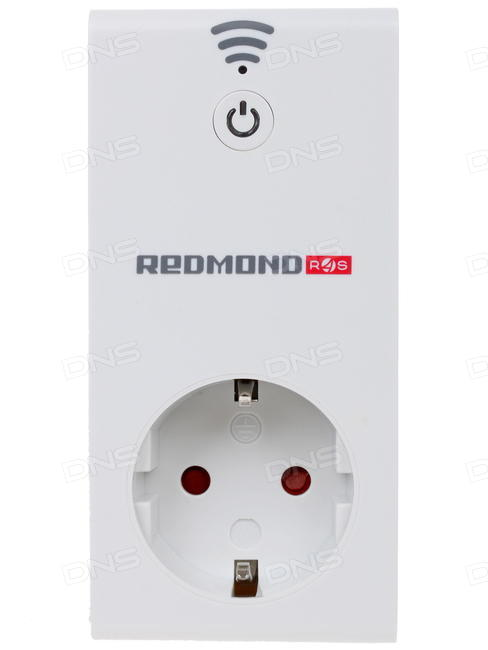raccoon: (129, 374, 356, 605)
